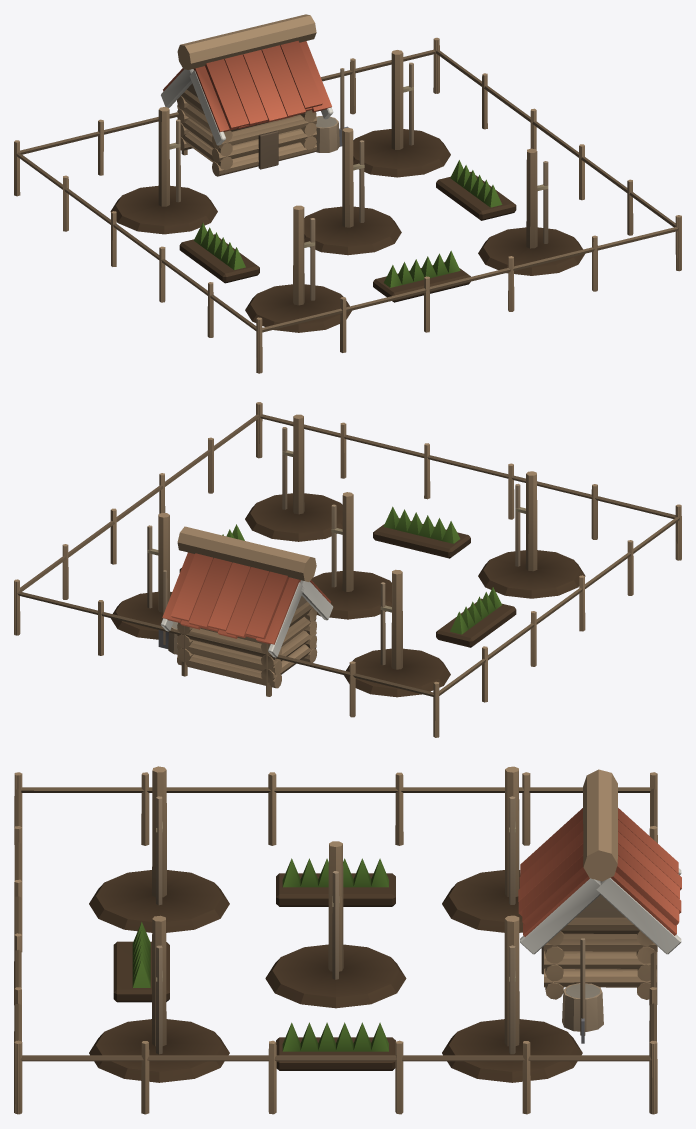
The model's file is bld_roshcha_e1.glb.
3 renders of one model, top to bottom at view 1: azimuth 30°, elevation 25°; view 2: azimuth 150°, elevation 25°; view 3: azimuth 270°, elevation 25°, orthographic. The views are drawn at different scales.
Visible parts, largest first — view 1: roshcha; view 2: roshcha; view 3: roshcha.
Part boxes in pixels (x1,y1,x2,y2): roshcha: [14, 14, 681, 373]; roshcha: [14, 402, 681, 737]; roshcha: [14, 766, 681, 1114].
Bounding box in the file's own units: 1.82 × 0.5426 × 1.89.
